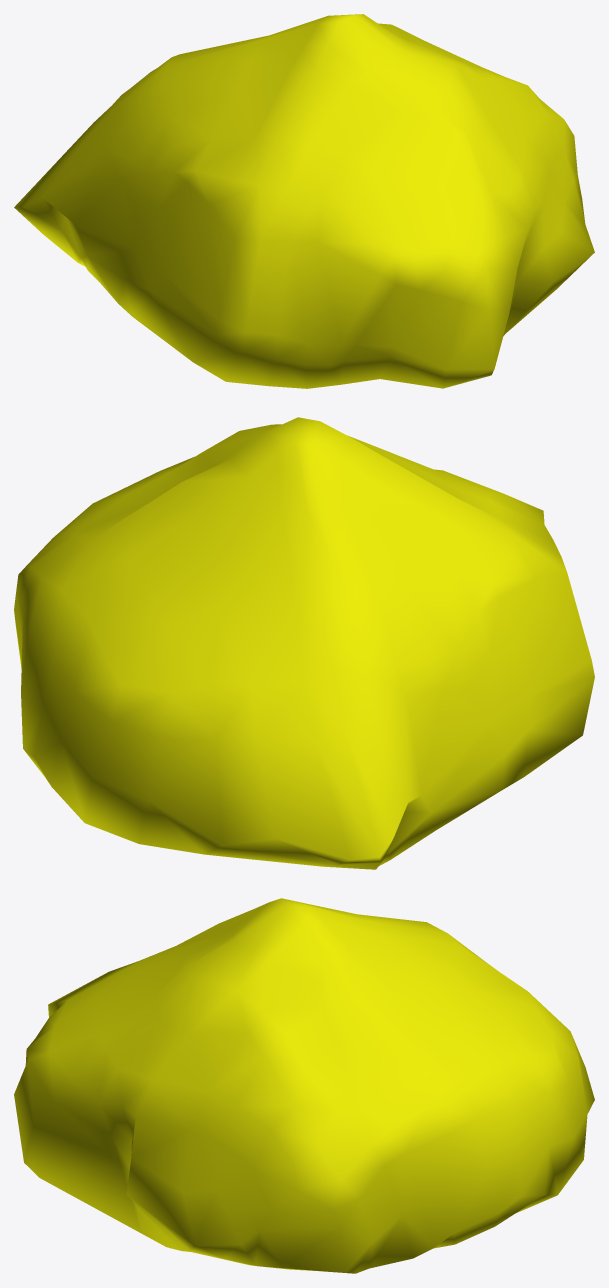
Rendered from SM_Rock4.fbx.
The picture shows the model from 3 angles, top to bottom: view 1: azimuth 30°, elevation 25°; view 2: azimuth 150°, elevation 25°; view 3: azimuth 270°, elevation 25°; orthographic projection. The views are drawn at different scales.
Visible parts, largest first — view 1: RockTwoLow; view 2: RockTwoLow; view 3: RockTwoLow.
Part boxes in pixels (left/top/right/bottom): RockTwoLow: left=14, top=14, right=594, bottom=388; RockTwoLow: left=14, top=417, right=594, bottom=869; RockTwoLow: left=14, top=898, right=594, bottom=1273.
Bounding box in the file's own units: 1.75 × 1.23 × 2.05.
